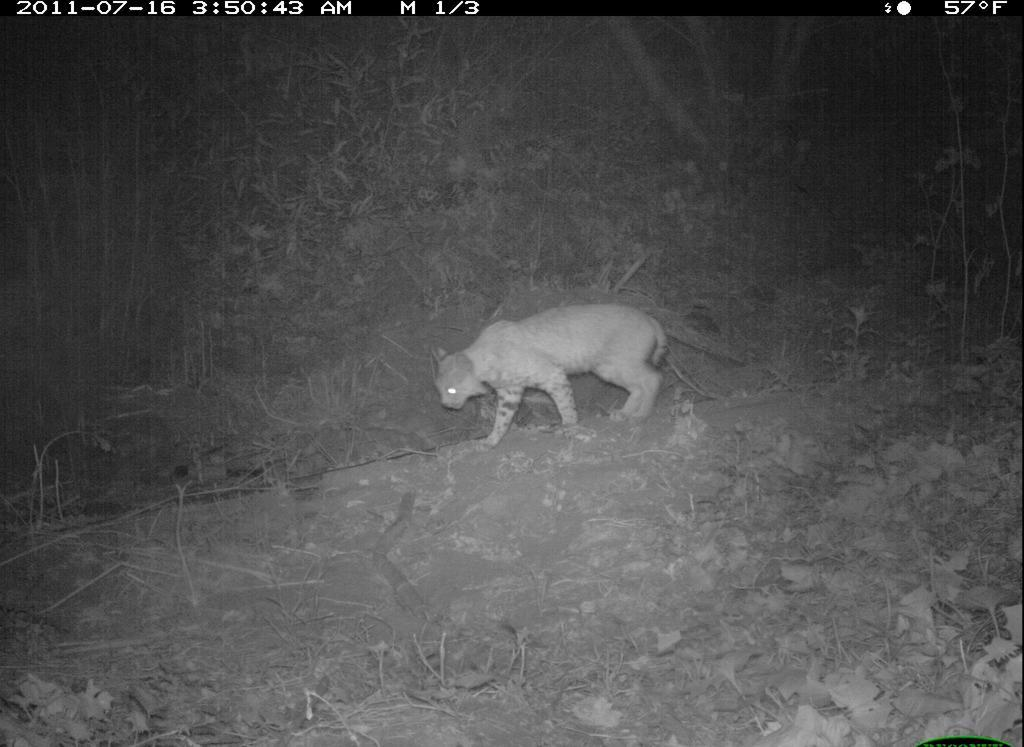bobcat: (425, 297, 674, 456)
